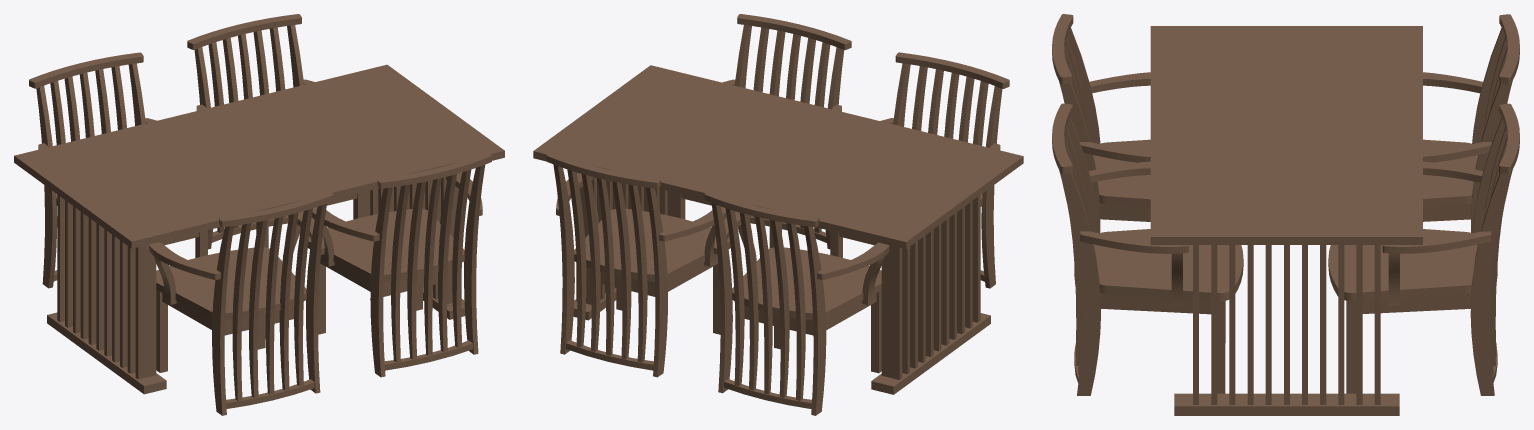
Rendered from 535_ダイニングテーブルセット4人掛け.glb.
The picture shows the model from 3 angles, left to right: view 1: azimuth 30°, elevation 25°; view 2: azimuth 150°, elevation 25°; view 3: azimuth 270°, elevation 25°; orthographic projection. The views are drawn at different scales.
Visible parts, largest first — view 1: Body, chair3, chair4, chair1, chair2; view 2: Body, chair1, chair2, chair3, chair4; view 3: Body, chair2, chair4, chair3, chair1.
Part boxes in pixels (bbox=[...]): Body: bbox=[14, 64, 504, 394]; chair3: bbox=[149, 191, 333, 415]; chair4: bbox=[307, 152, 491, 377]; chair1: bbox=[29, 52, 207, 288]; chair2: bbox=[187, 14, 365, 249]; Body: bbox=[533, 65, 1023, 394]; chair1: bbox=[704, 191, 889, 415]; chair2: bbox=[546, 152, 730, 377]; chair3: bbox=[830, 52, 1009, 288]; chair4: bbox=[672, 14, 851, 249]; Body: bbox=[1150, 26, 1422, 415]; chair2: bbox=[1328, 103, 1519, 395]; chair4: bbox=[1052, 103, 1243, 395]; chair3: bbox=[1052, 14, 1150, 283]; chair1: bbox=[1423, 14, 1519, 281].
Bounding box in the file's own units: 1.65 × 0.85 × 1.55.
